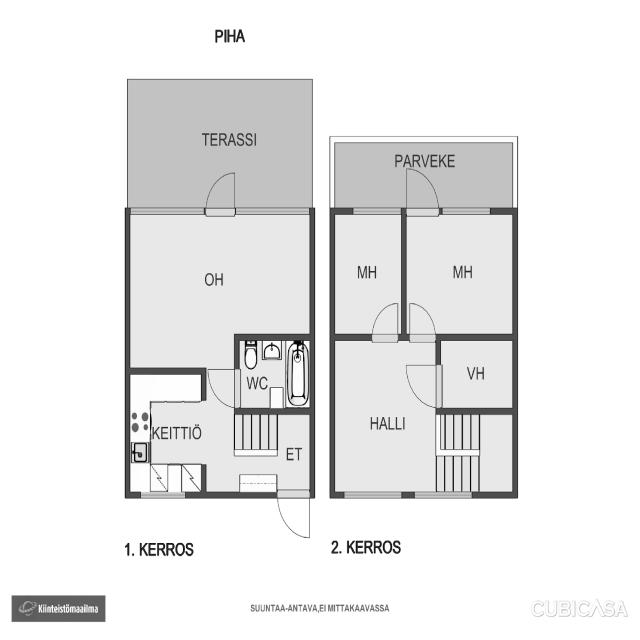door: (403, 166, 443, 220), (404, 361, 442, 408), (204, 168, 238, 220), (208, 366, 240, 410), (406, 298, 437, 342), (370, 298, 401, 341)
window: (232, 204, 314, 219), (128, 204, 207, 218), (340, 486, 408, 502), (411, 488, 480, 501), (348, 204, 404, 218), (441, 204, 493, 219), (137, 490, 190, 502)
zone: (124, 211, 316, 366), (333, 339, 436, 497), (403, 211, 516, 339), (128, 370, 204, 494), (201, 414, 315, 495), (333, 209, 404, 337), (437, 338, 516, 411), (237, 337, 313, 410), (276, 488, 312, 542)
